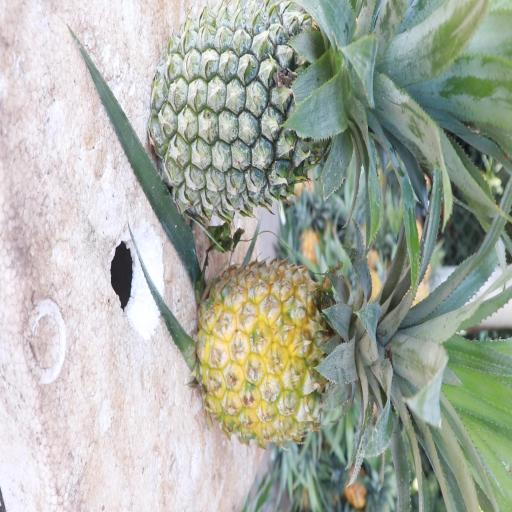Pineapple - v8 v1: (197, 238, 476, 484)
